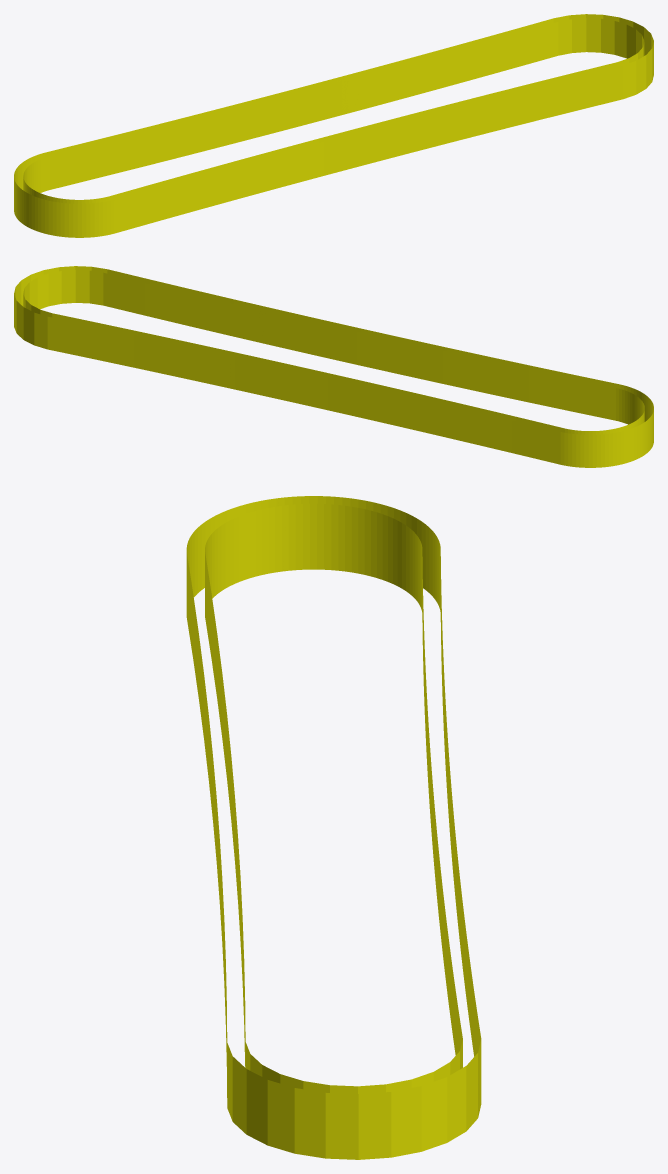
File: rubberband.dae
The picture shows the model from 3 angles, top to bottom: view 1: azimuth 30°, elevation 25°; view 2: azimuth 150°, elevation 25°; view 3: azimuth 270°, elevation 25°; orthographic projection. The views are drawn at different scales.
Parts seen in each view (by area): view 1: group_0 (×2); view 2: group_0 (×2); view 3: group_0 (×2).
Boxes of the visible parts, left/top/right/bottom form: group_0 (×2): left=14, top=14, right=653, bottom=237; group_0 (×2): left=14, top=266, right=653, bottom=467; group_0 (×2): left=186, top=496, right=481, bottom=1159.
Bounding box in the file's own units: 3.61 × 0.7505 × 0.185.
